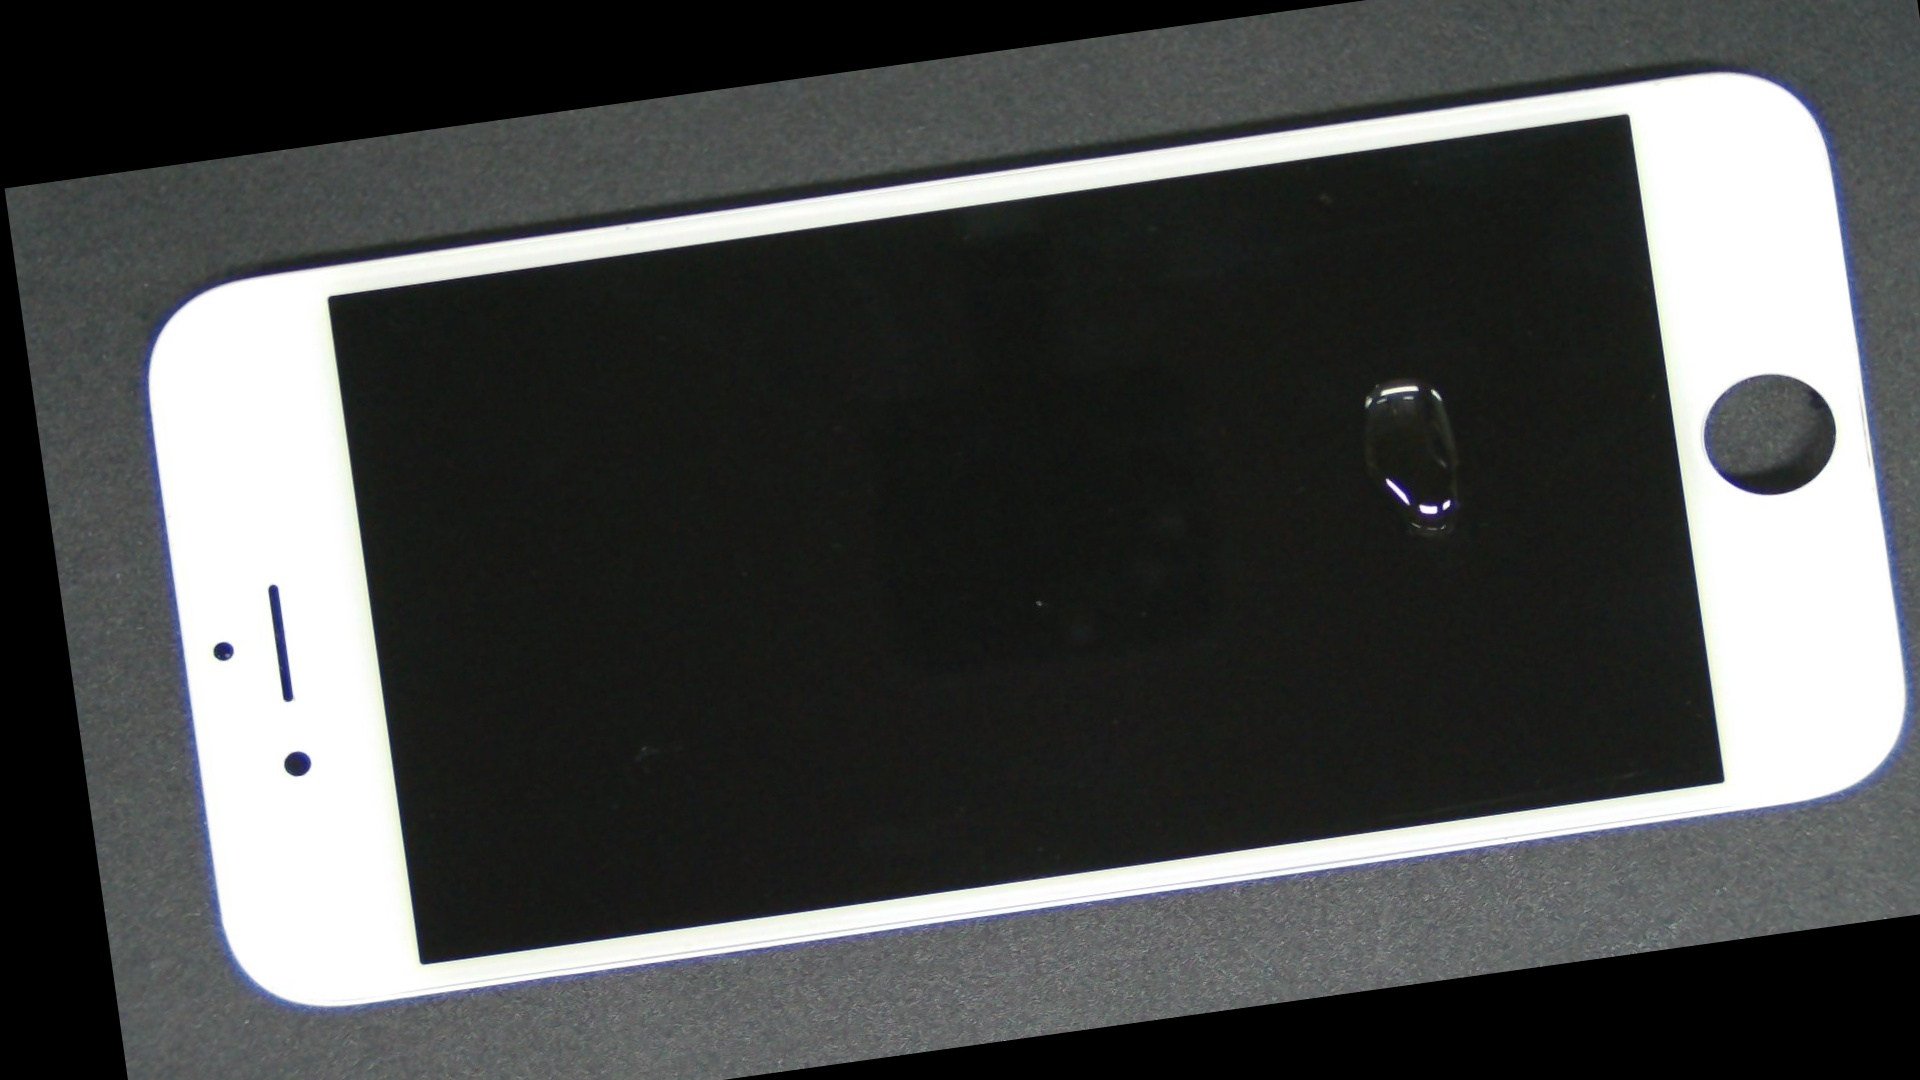oil: (700, 112, 1920, 659)
